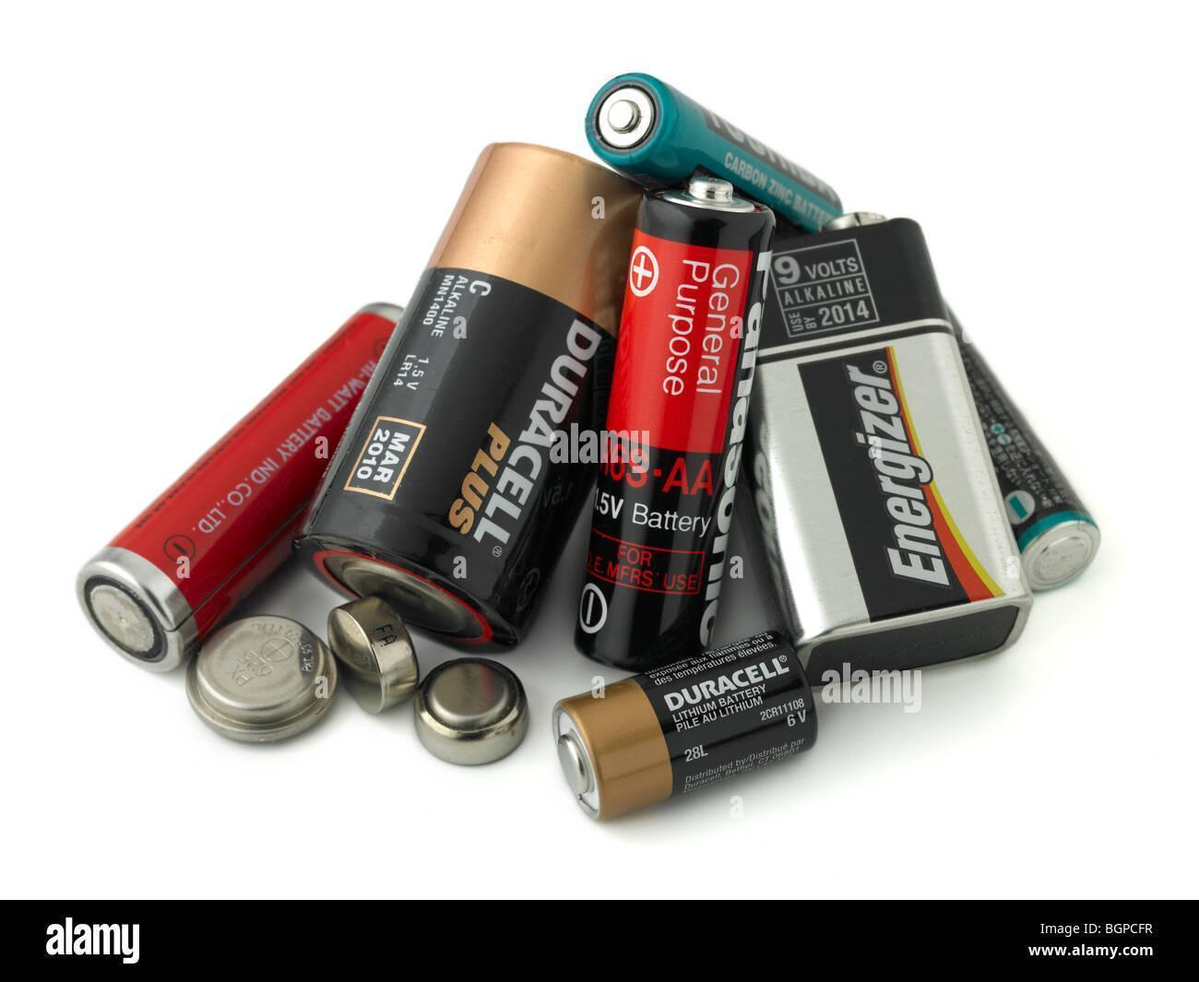AA: (74, 294, 405, 685), (564, 170, 789, 678), (578, 63, 852, 243)
COIN: (184, 610, 342, 748), (410, 655, 531, 771), (323, 590, 424, 719)
